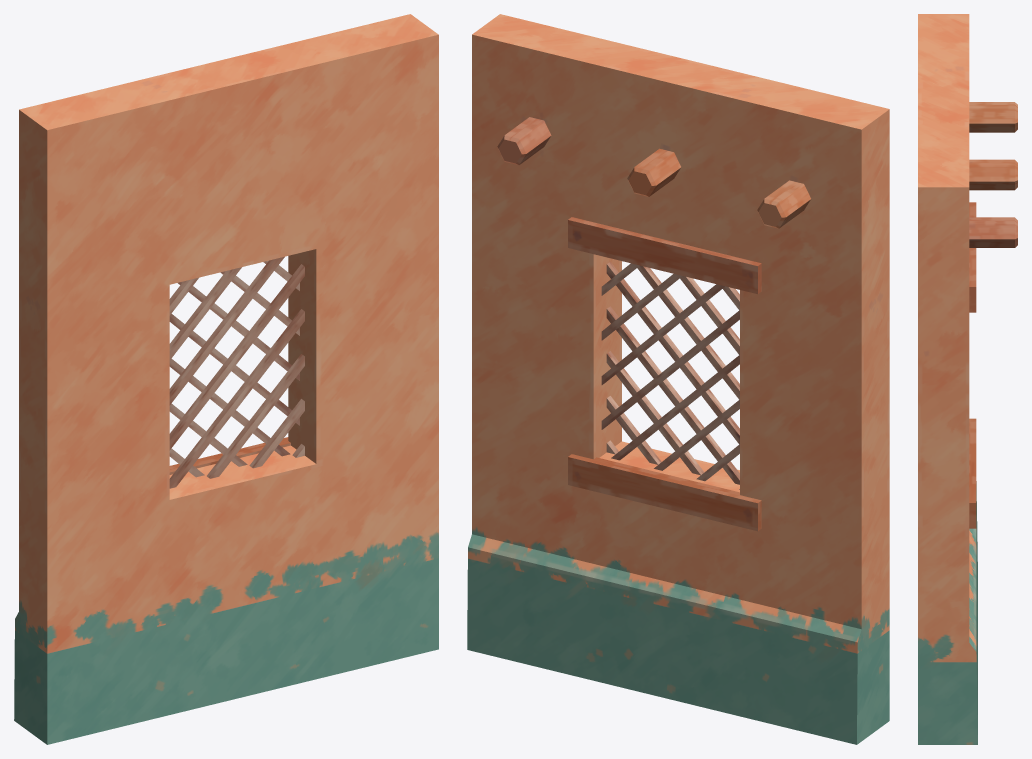
File: wall_window_low.fbx
3 views of the same model, side by side, from view 1: azimuth 30°, elevation 25°; view 2: azimuth 150°, elevation 25°; view 3: azimuth 270°, elevation 25° (orthographic). The views are drawn at different scales.
Visible parts, largest first — view 1: wall_window_low; view 2: wall_window_low; view 3: wall_window_low.
Part boxes in pixels (x1,y1,x2,y2): wall_window_low: (14,14,438,744); wall_window_low: (467,14,889,744); wall_window_low: (918,14,1017,744).
Size of the model in its own units: 8 by 12 by 1.95.
Materials: 1 (1 with a texture image).
